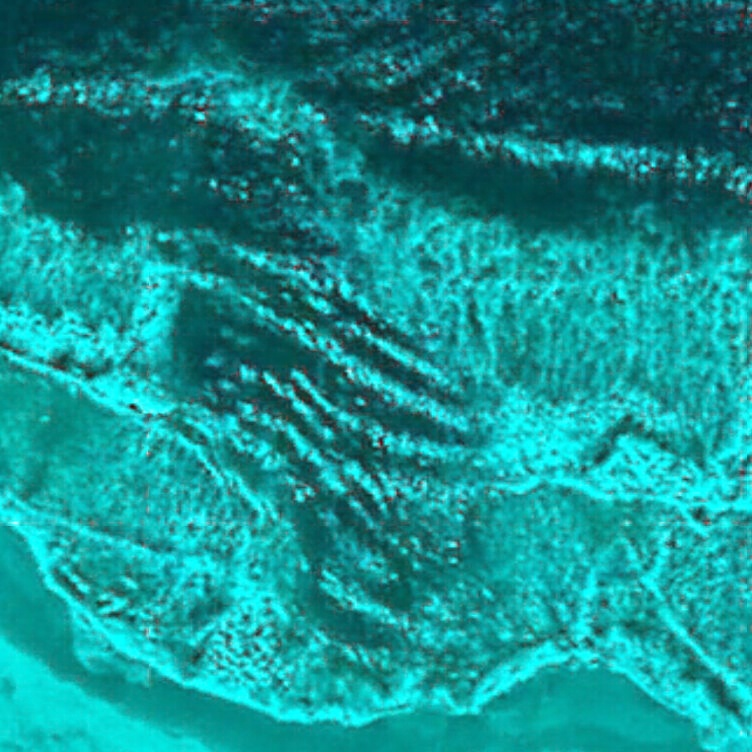rip_current: (97, 143, 520, 640)
